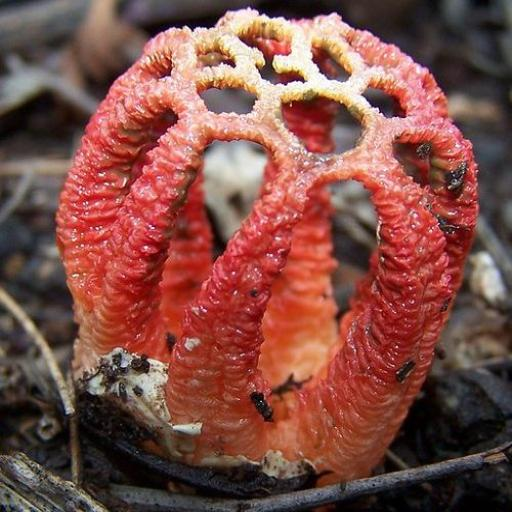Red Cage Fungus: (14, 0, 512, 499)
